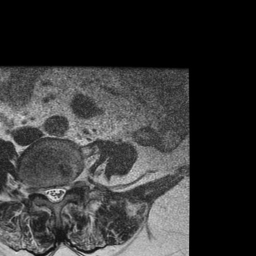CCS_normal: (52, 177, 59, 211)
LFS_normal: (66, 173, 74, 198)
LLS_normal: (59, 177, 66, 205)
RFS_normal: (36, 178, 44, 201)
RLS_normal: (44, 179, 52, 206)
